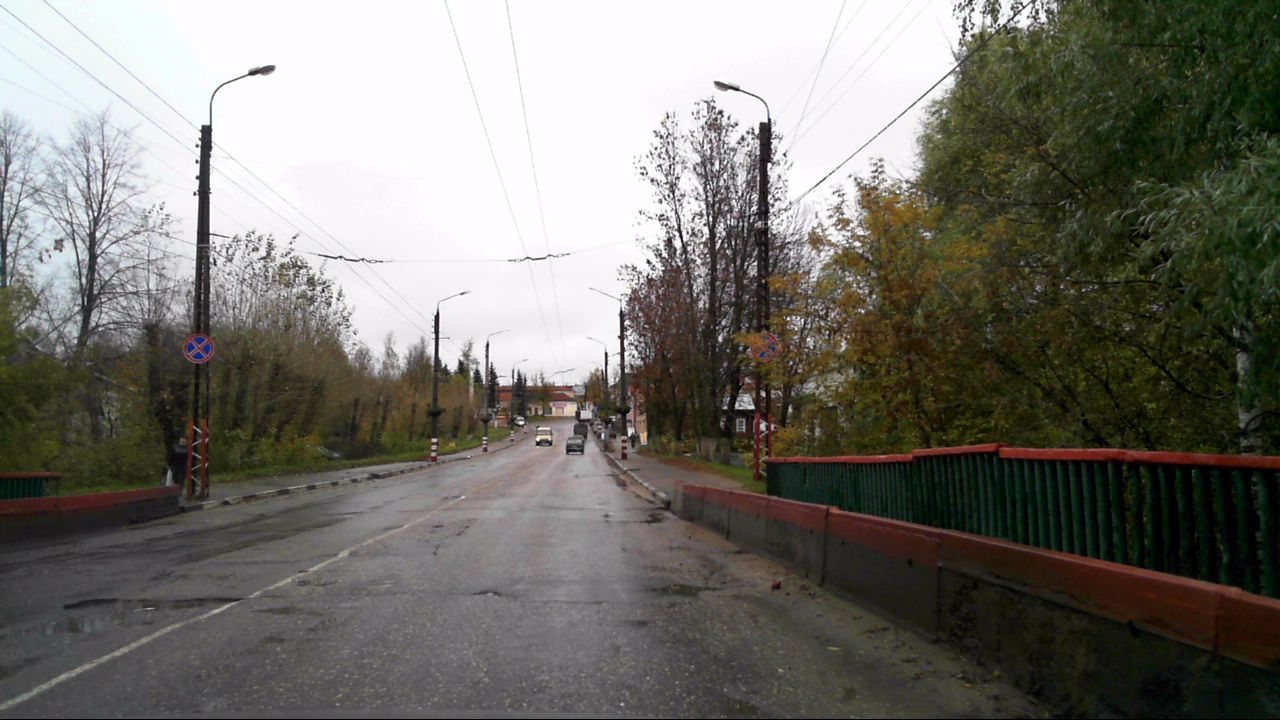No Parking: (744, 332, 778, 365)
